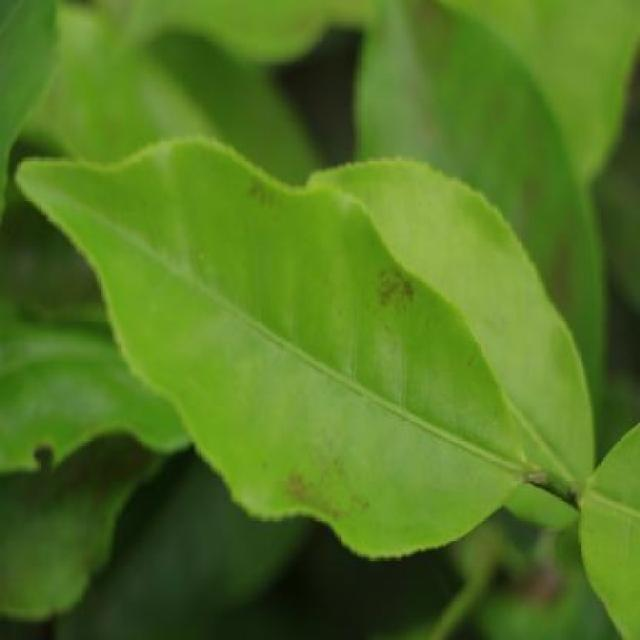Red Spider infested tea leaf: (59, 120, 546, 546)
